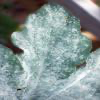Squash Powdery mildew leaf: (1, 2, 99, 99)
